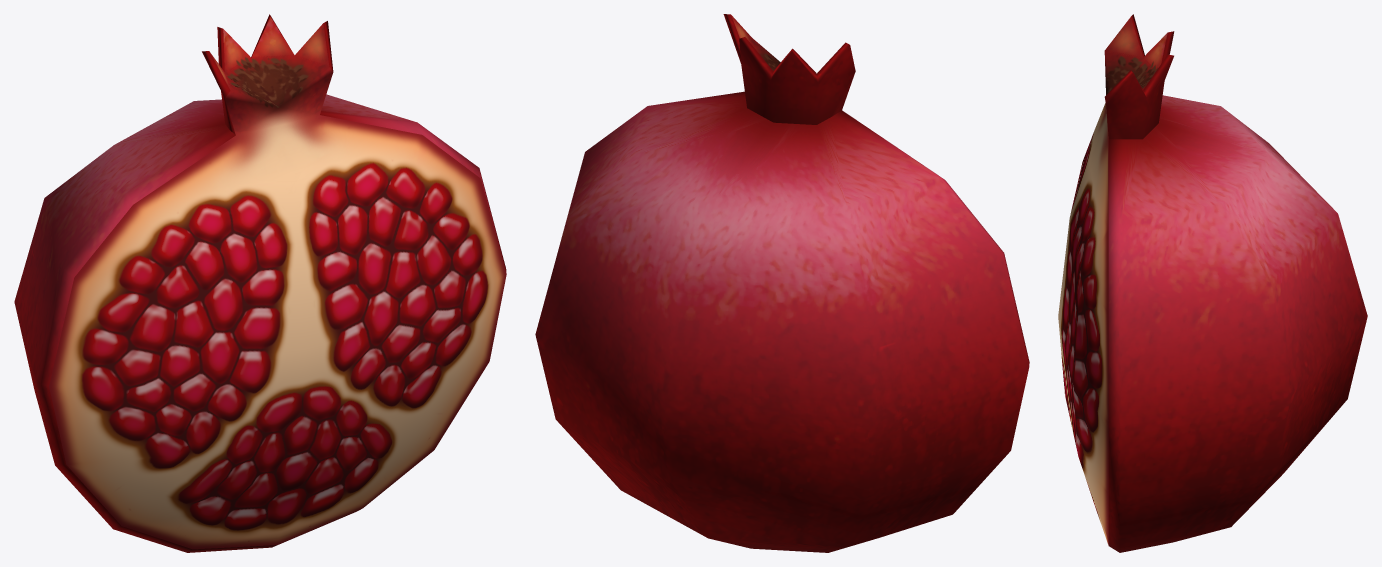
The model's file is Pomegranate_Half.fbx.
3 views of the same model, side by side, from view 1: azimuth 30°, elevation 25°; view 2: azimuth 150°, elevation 25°; view 3: azimuth 270°, elevation 25° (orthographic). The views are drawn at different scales.
Parts seen in each view (by area): view 1: Pomegranate_Half; view 2: Pomegranate_Half; view 3: Pomegranate_Half.
Boxes of the visible parts, bbox=[...] form: Pomegranate_Half: bbox=[14, 14, 506, 552]; Pomegranate_Half: bbox=[535, 14, 1029, 552]; Pomegranate_Half: bbox=[1058, 14, 1367, 552].
Bounding box in the file's own units: 39 × 40.22 × 23.28.
1 material, 1 textured.
